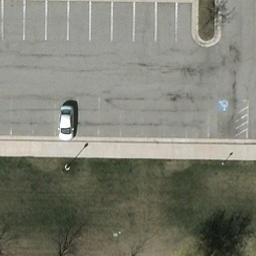car: (58, 106, 76, 143)
